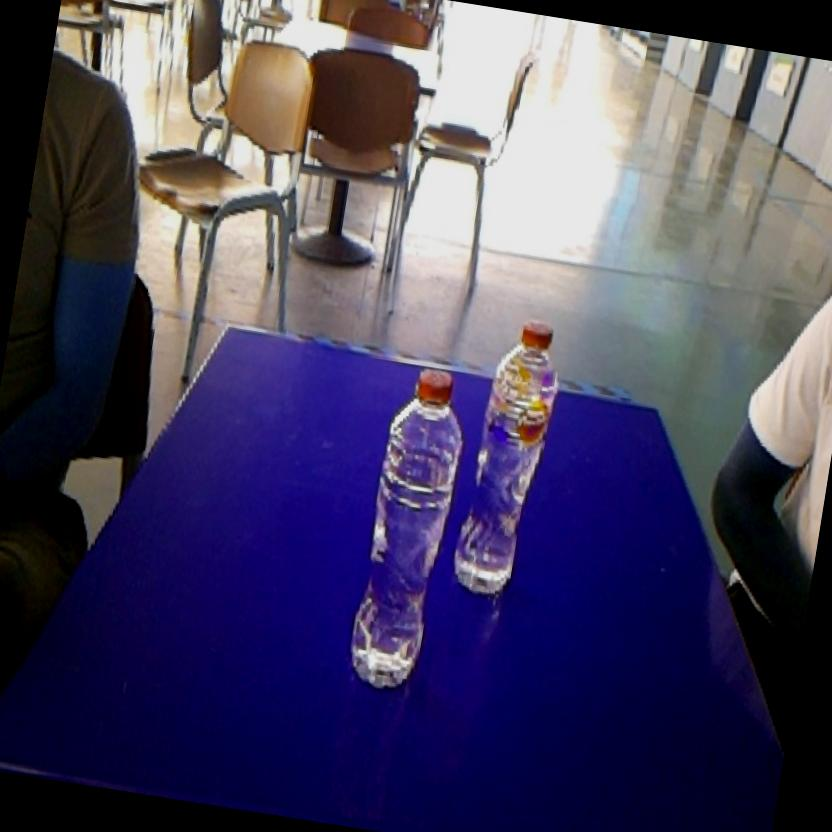good: (444, 304, 576, 613)
no_label: (335, 354, 477, 702)
